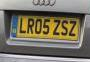0: (35, 18, 42, 34)
5: (42, 18, 51, 35)
L: (19, 17, 26, 34)
R: (26, 18, 34, 34)
S: (61, 19, 68, 36)
Z: (53, 18, 60, 36), (69, 20, 76, 37)
